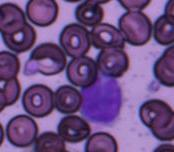M: (79, 72, 125, 128)
